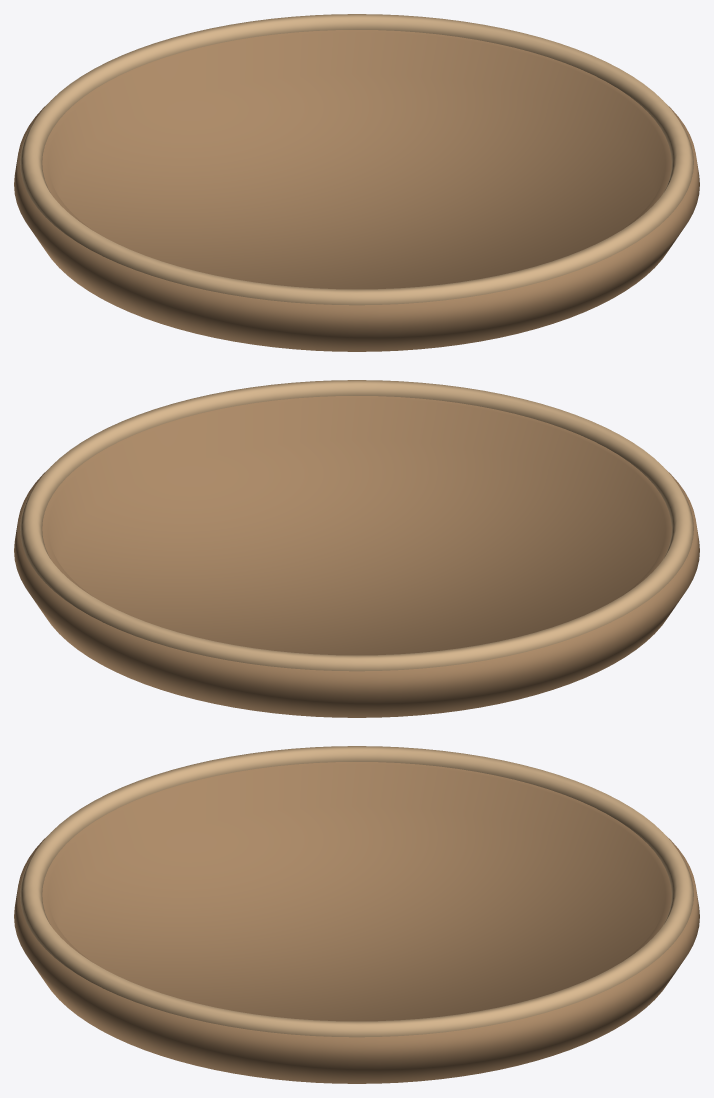
Rendered from round_grocery_r4.glb.
The picture shows the model from 3 angles, top to bottom: view 1: azimuth 30°, elevation 25°; view 2: azimuth 150°, elevation 25°; view 3: azimuth 270°, elevation 25°; orthographic projection.
Visible parts, largest first — view 1: round_grocery_r4; view 2: round_grocery_r4; view 3: round_grocery_r4.
Boxes of the visible parts, x1,y1,x2,y2 form: round_grocery_r4: [14, 14, 699, 351]; round_grocery_r4: [14, 380, 699, 717]; round_grocery_r4: [14, 746, 699, 1083].
Bounding box in the file's own units: 4 × 0.3963 × 4.
